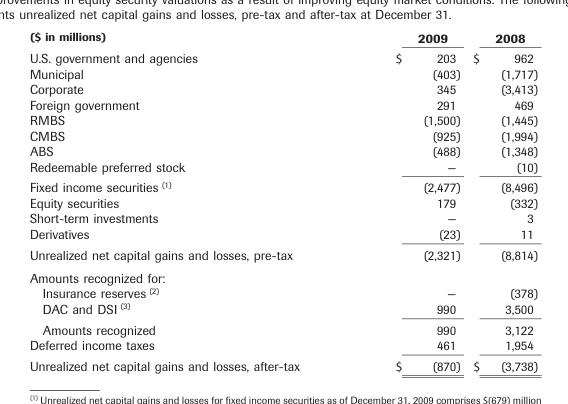table: (28, 29, 537, 373)
table column: (28, 29, 346, 373), (346, 29, 466, 373), (466, 29, 537, 373)
table column header: (28, 29, 537, 47)
table projected row header: (28, 265, 537, 285)
table row: (28, 243, 537, 265), (28, 265, 537, 285), (28, 336, 537, 355), (28, 29, 537, 47), (28, 47, 537, 65), (28, 158, 537, 176), (28, 176, 537, 194), (28, 225, 537, 243), (28, 300, 537, 318), (28, 318, 537, 336), (28, 355, 537, 373), (28, 65, 537, 81), (28, 96, 537, 112), (28, 127, 537, 143), (28, 194, 537, 210), (28, 81, 537, 96), (28, 112, 537, 127), (28, 143, 537, 158), (28, 210, 537, 225), (28, 285, 537, 300)
